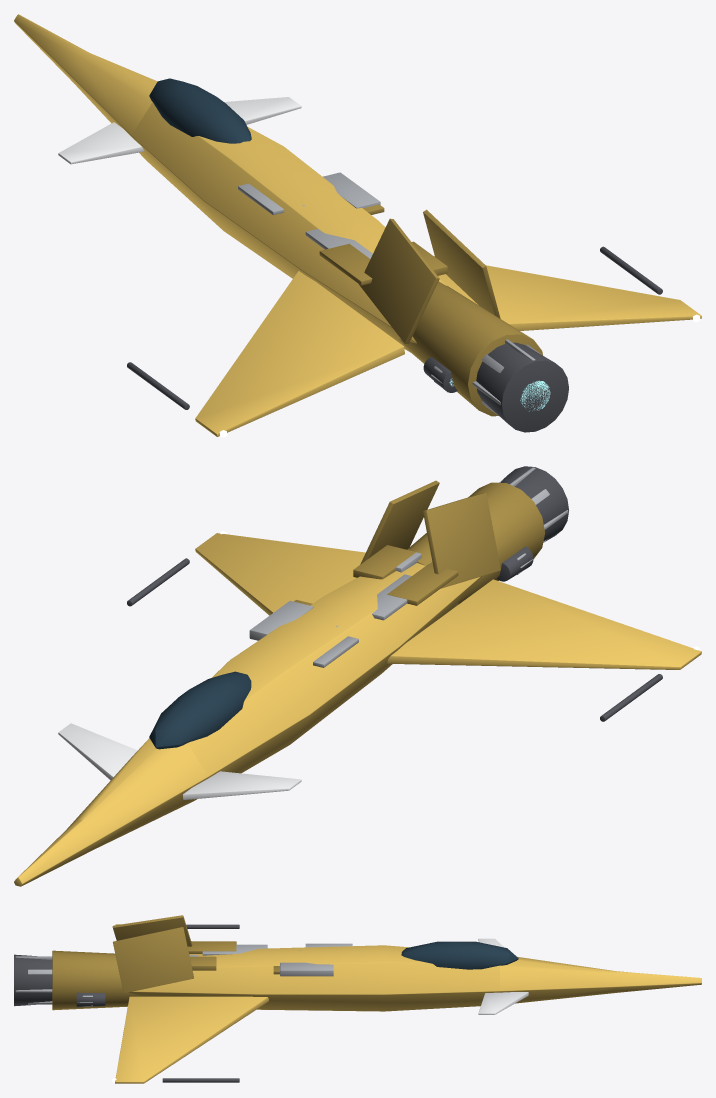
Rendered from ship_wasp.glb.
3 renders of one model, top to bottom at view 1: azimuth 30°, elevation 25°; view 2: azimuth 150°, elevation 25°; view 3: azimuth 270°, elevation 25°, orthographic. The views are drawn at different scales.
Visible parts, largest first — view 1: ShipWasp; view 2: ShipWasp; view 3: ShipWasp.
Boxes of the visible parts, x1,y1,x2,y2 form: ShipWasp: [14, 14, 701, 437]; ShipWasp: [14, 466, 701, 886]; ShipWasp: [14, 915, 701, 1083].
Size of the model in its own units: 7.74 by 1.98 by 14.3.
